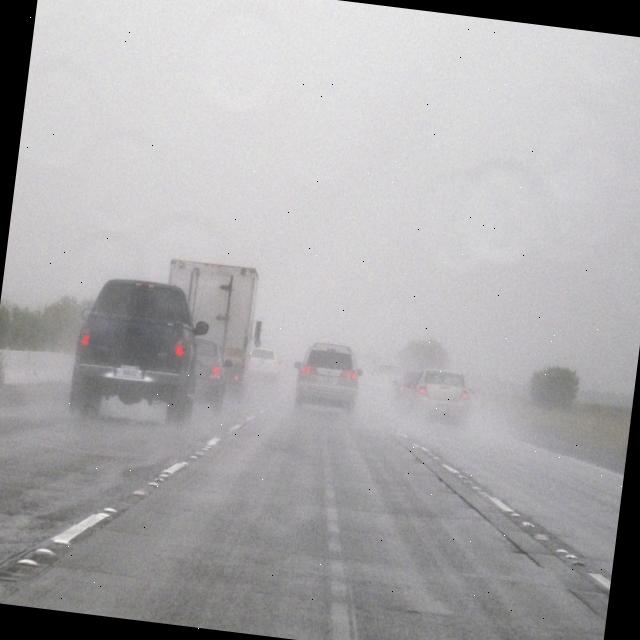bus: (156, 254, 262, 386)
car: (64, 271, 212, 434), (293, 338, 363, 408), (186, 339, 237, 412), (411, 363, 473, 422), (244, 346, 286, 384), (390, 366, 420, 408)
